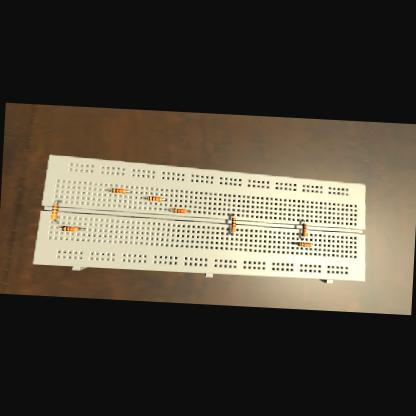breadboard: (32, 153, 371, 284)
resistor: (62, 225, 79, 231), (51, 204, 58, 218), (147, 195, 162, 201), (230, 218, 236, 232), (110, 188, 126, 193), (301, 223, 307, 236), (172, 207, 186, 212), (297, 242, 311, 247)
wire: (55, 200, 61, 204), (302, 219, 305, 223), (52, 219, 58, 221), (127, 190, 132, 192), (186, 210, 190, 212), (301, 236, 304, 238), (78, 228, 84, 229), (292, 242, 298, 243), (108, 188, 110, 190), (162, 198, 166, 199), (169, 208, 171, 210), (232, 214, 233, 217), (144, 197, 146, 198), (231, 232, 233, 233), (59, 227, 61, 228)
